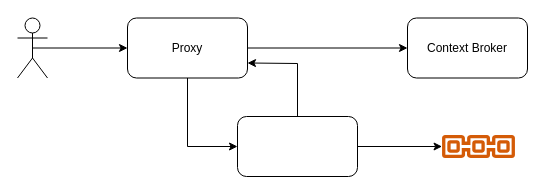
This 545x194 diagram has some shape labels left out. Each missing label, with the centre of its shape:
Alice: the point at 32,47
Canis Major: the point at 297,146
